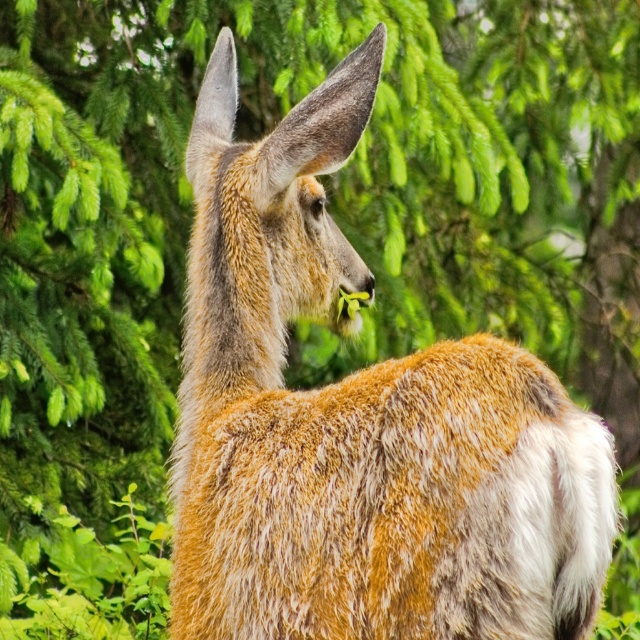Kangaroo: (168, 27, 628, 639)
